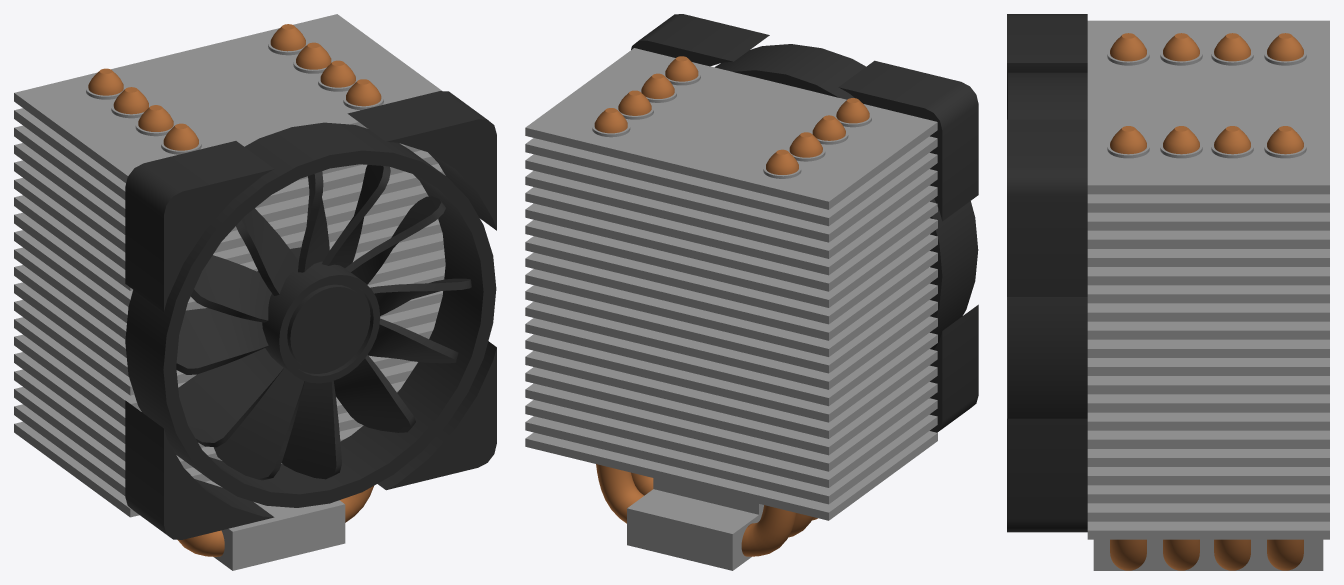
File: PCGOOBER GL-X4.fbx
3 views of the same model, side by side, from view 1: azimuth 30°, elevation 25°; view 2: azimuth 150°, elevation 25°; view 3: azimuth 270°, elevation 25° (orthographic). The views are drawn at different scales.
Parts seen in each view (by area): view 1: Cube, Plane.010, Cylinder, Cube.001, Cylinder.001, Cylinder.011, Cube.002, Cylinder.008; view 2: Cube, Cube.001, Cylinder.011, Cylinder, Cube.002, Cylinder.008; view 3: Cube, Cube.001, Cylinder, Cylinder.011, Cube.002, Cylinder.008.
Part boxes in pixels (x1=…): Cube: x1=14, y1=14, x2=445, y2=517; Plane.010: x1=176, y1=165, x2=471, y2=480; Cylinder: x1=125, y1=122, x2=496, y2=507; Cube.001: x1=125, y1=91, x2=496, y2=539; Cylinder.001: x1=257, y1=247, x2=380, y2=383; Cylinder.011: x1=88, y1=24, x2=381, y2=556; Cube.002: x1=213, y1=500, x2=345, y2=570; Cylinder.008: x1=86, y1=39, x2=383, y2=154; Cube: x1=525, y1=48, x2=937, y2=520; Cube.001: x1=631, y1=14, x2=978, y2=432; Cylinder.011: x1=594, y1=56, x2=869, y2=556; Cylinder: x1=715, y1=44, x2=978, y2=349; Cube.002: x1=627, y1=478, x2=763, y2=570; Cylinder.008: x1=592, y1=70, x2=871, y2=178; Cube: x1=1087, y1=20, x2=1329, y2=539; Cube.001: x1=1007, y1=14, x2=1087, y2=532; Cylinder: x1=1008, y1=72, x2=1087, y2=418; Cylinder.011: x1=1110, y1=33, x2=1303, y2=570; Cube.002: x1=1093, y1=539, x2=1323, y2=570; Cylinder.008: x1=1107, y1=49, x2=1306, y2=158.
Bounding box in the file's own units: 200 × 253 × 161.
